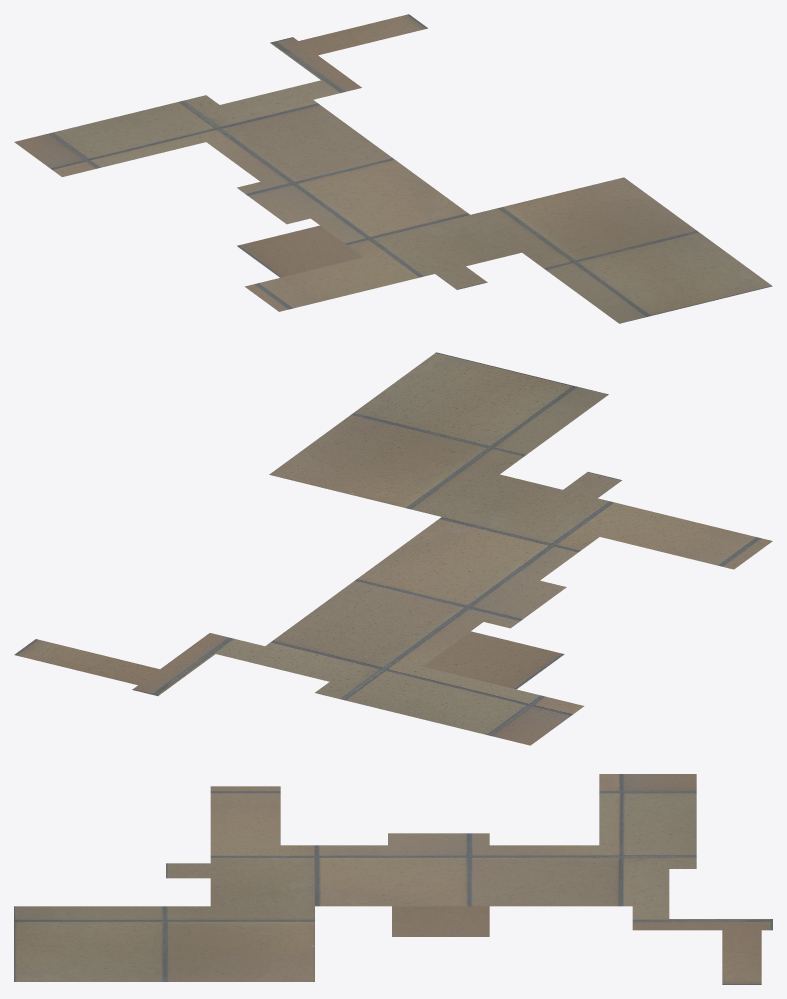
The model's file is Lattia_1krs 1.fbx.
3 renders of one model, top to bottom at view 1: azimuth 30°, elevation 25°; view 2: azimuth 150°, elevation 25°; view 3: azimuth 270°, elevation 25°, orthographic. The views are drawn at different scales.
Visible parts, largest first — view 1: 1krs_lattia.001, Lattia_Alakerta; view 2: 1krs_lattia.001, Lattia_Alakerta; view 3: 1krs_lattia.001, Lattia_Alakerta.
Part boxes in pixels (left/top/right/bottom): 1krs_lattia.001: left=14, top=14, right=772, bottom=323; Lattia_Alakerta: left=237, top=225, right=363, bottom=277; 1krs_lattia.001: left=14, top=352, right=772, bottom=745; Lattia_Alakerta: left=423, top=631, right=564, bottom=689; 1krs_lattia.001: left=14, top=774, right=772, bottom=984; Lattia_Alakerta: left=392, top=906, right=489, bottom=936.
Size of the model in its own units: 4455 by 580 by 6780.
